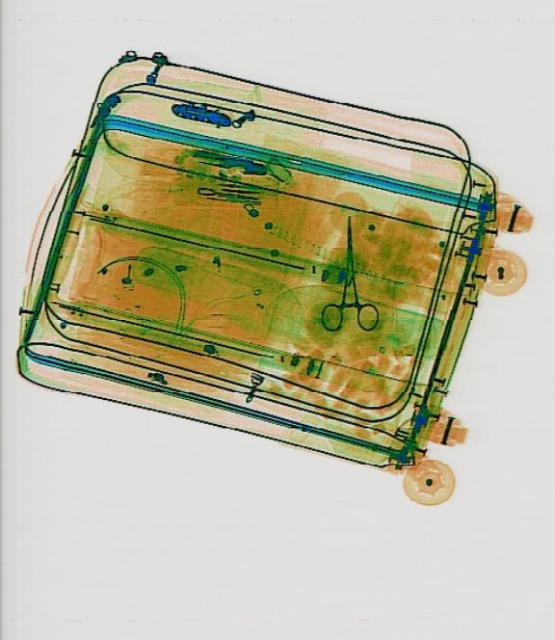Scissors: (316, 214, 376, 330)
